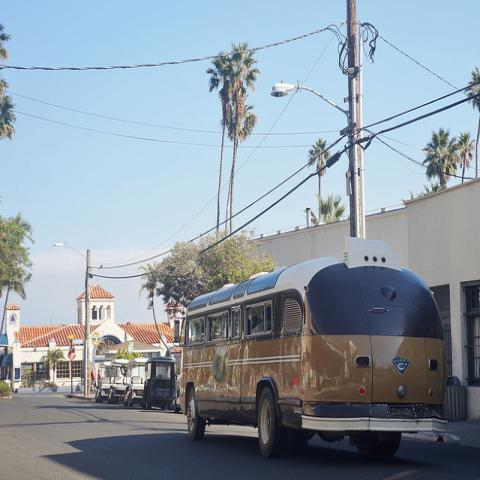bus: (180, 238, 450, 466)
car: (174, 389, 182, 414)
truck: (143, 354, 178, 409)
